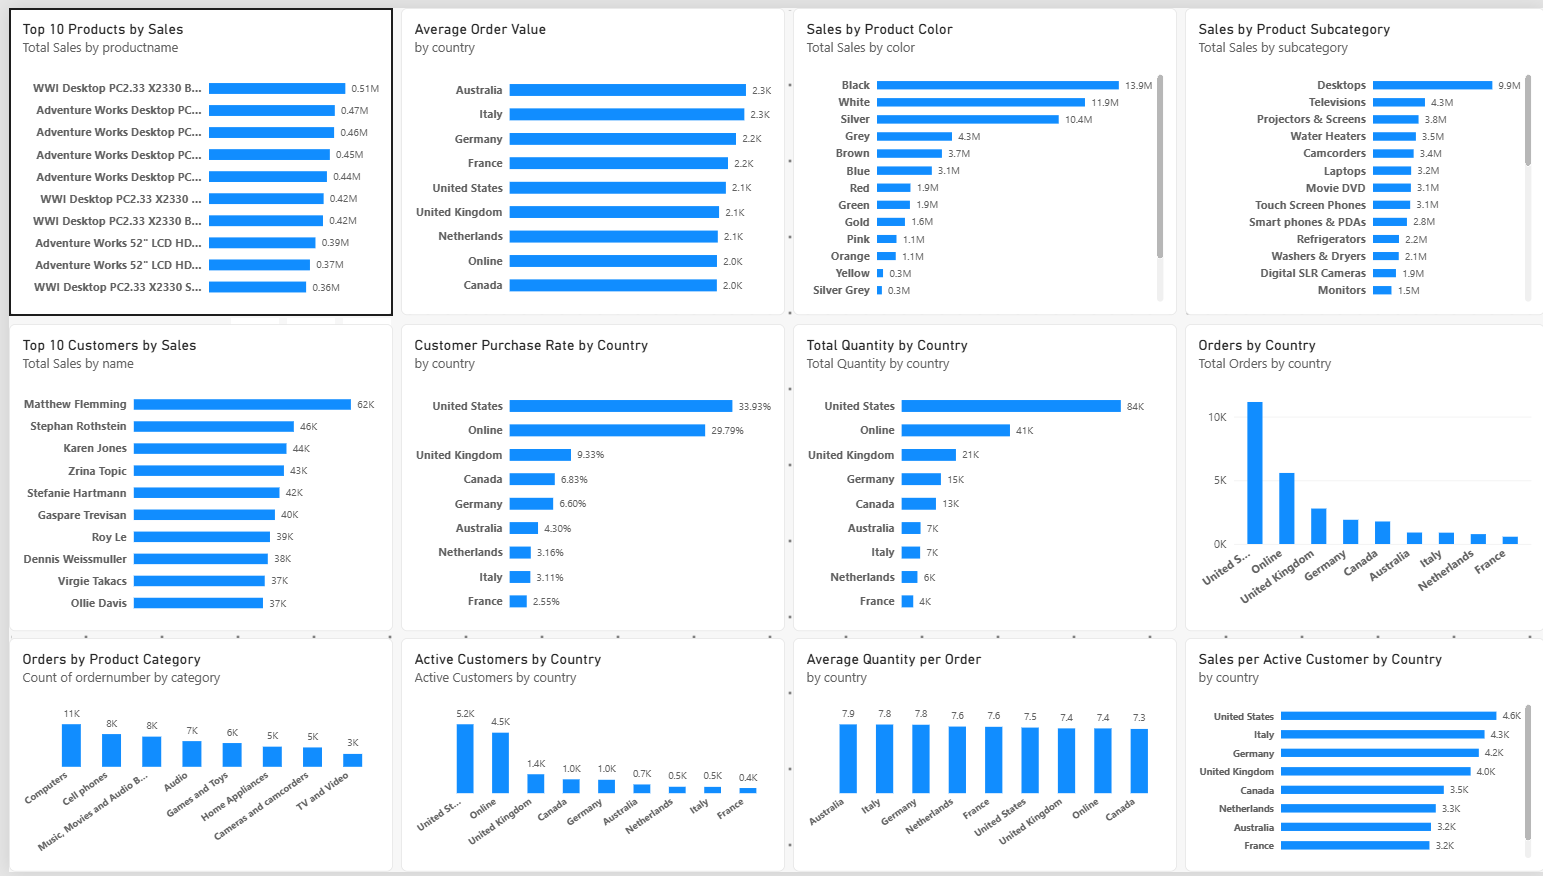

The dashboard page shown, as its layout file describes it:
{"tool":"powerbi","page":{"name":"Page 2 Product & Customer Analysis","canvas":[1920,1080],"ordinal":1},"visuals":[{"type":"clusteredBarChart","title":"Top 10 Products by Sales","fields":{"Category":["public products.productname"],"Y":["public customers.Total Sales"]},"box":[0,0,480,384],"z":0},{"type":"clusteredBarChart","title":"Top 10 Customers by Sales","fields":{"Category":["public customers.name"],"Y":["public customers.Total Sales"]},"box":[0,394,480,384],"z":1000},{"type":"clusteredColumnChart","title":"Orders by Product Category","fields":{"Category":["public products.category"],"Y":["Count(public sales.ordernumber)"]},"box":[0,788,480,292],"z":2000},{"type":"clusteredBarChart","fields":{"Category":["public stores.country"],"Y":["public sales.Average Order Value"]},"box":[490,0,480,384],"z":3000},{"type":"clusteredBarChart","fields":{"Category":["public stores.country"],"Y":["public sales.Customer Purchase Rate by Country"]},"box":[490,394,480,384],"z":4000},{"type":"clusteredColumnChart","title":"Active Customers by Country","fields":{"Category":["public stores.country"],"Y":["public sales.Active Customers"]},"box":[490,788,480,292],"z":5000},{"type":"clusteredBarChart","title":"Sales by Product Color","fields":{"Category":["public products.color"],"Y":["public customers.Total Sales"]},"box":[980,0,480,384],"z":6000},{"type":"clusteredBarChart","title":"Total Quantity by Country","fields":{"Category":["public stores.country"],"Y":["public sales.Total Quantity"]},"box":[980,394,480,384],"z":7000},{"type":"clusteredColumnChart","fields":{"Category":["public stores.country"],"Y":["public sales.Average Quantity per Order"]},"box":[980,788,480,292],"z":8000},{"type":"clusteredBarChart","title":"Sales by Product Subcategory","fields":{"Category":["public products.subcategory"],"Y":["public customers.Total Sales"]},"box":[1470,0,450,384],"z":9000},{"type":"clusteredColumnChart","title":"Orders by Country","fields":{"Category":["public stores.country"],"Y":["public sales.Total Orders"]},"box":[1470,394,450,384],"z":10000},{"type":"clusteredBarChart","fields":{"Category":["public stores.country"],"Y":["public sales.Sales per Active Customer by Country"]},"box":[1470,788,450,292],"z":11000}]}

Visuals, with their boxes in screenshot pixels (x1, y1, x2, y2), scaled from the page's 1920x1080 canvas onto the 1543x876 screenshot:
"Top 10 Products by Sales" clusteredBarChart: [0,0,386,311]
"Top 10 Customers by Sales" clusteredBarChart: [0,320,386,631]
"Orders by Product Category" clusteredColumnChart: [0,639,386,875]
clusteredBarChart - public stores.country x public sales.Average Order Value: [394,0,780,311]
clusteredBarChart - public stores.country x public sales.Customer Purchase Rate by Country: [394,320,780,631]
"Active Customers by Country" clusteredColumnChart: [394,639,780,875]
"Sales by Product Color" clusteredBarChart: [788,0,1173,311]
"Total Quantity by Country" clusteredBarChart: [788,320,1173,631]
clusteredColumnChart - public stores.country x public sales.Average Quantity per Order: [788,639,1173,875]
"Sales by Product Subcategory" clusteredBarChart: [1181,0,1542,311]
"Orders by Country" clusteredColumnChart: [1181,320,1542,631]
clusteredBarChart - public stores.country x public sales.Sales per Active Customer by Country: [1181,639,1542,875]
